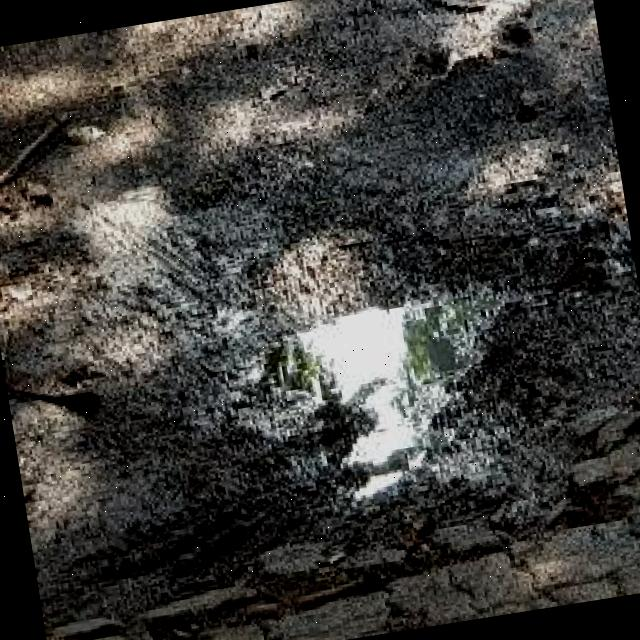stagnation: (163, 260, 566, 548)
